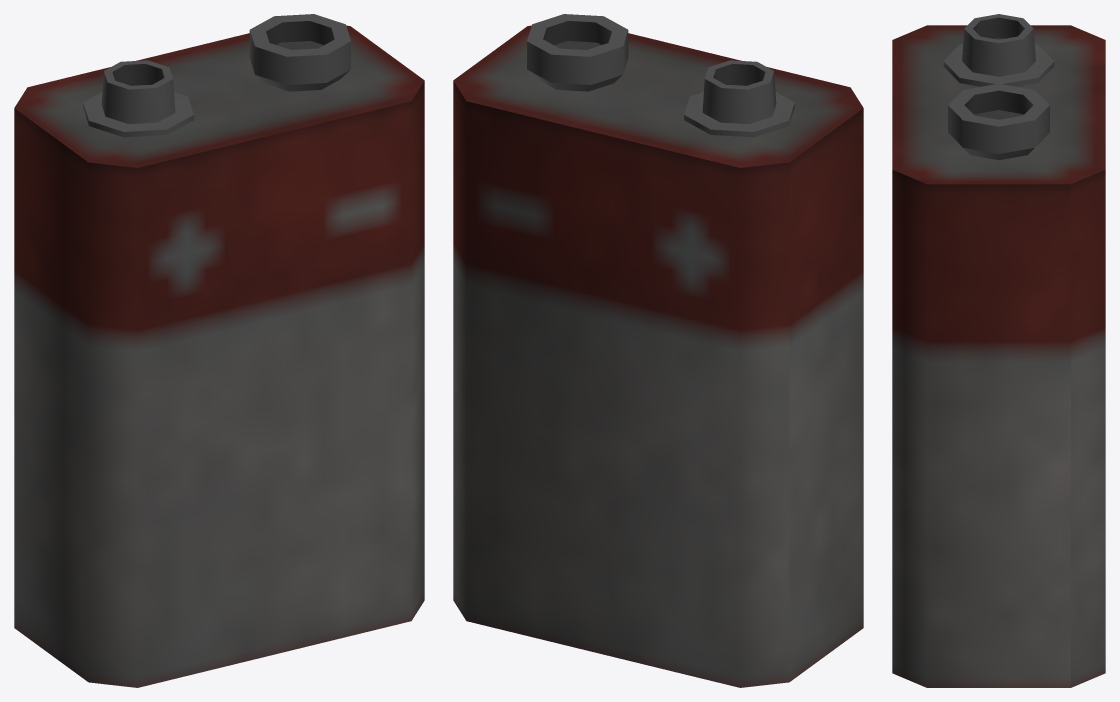
The model's file is battery_mp_3_1.obj.
3 views of the same model, side by side, from view 1: azimuth 30°, elevation 25°; view 2: azimuth 150°, elevation 25°; view 3: azimuth 270°, elevation 25° (orthographic). The views are drawn at different scales.
Visible parts, largest first — view 1: battery_mp_3_1; view 2: battery_mp_3_1; view 3: battery_mp_3_1.
Part boxes in pixels (x1,y1,x2,y2): battery_mp_3_1: (14,14,424,687); battery_mp_3_1: (453,14,863,687); battery_mp_3_1: (892,14,1105,687).
Bounding box in the file's own units: 2.07 × 3.29 × 1.18.
1 material, 1 textured.
